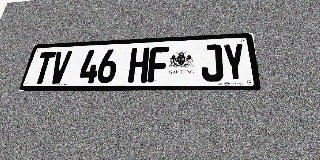4: (78, 50, 102, 83)
6: (96, 49, 119, 83)
F: (147, 46, 169, 82)
H: (127, 47, 150, 83)
J: (201, 44, 224, 82)
T: (31, 52, 56, 84)
V: (48, 51, 72, 84)
Y: (222, 43, 247, 81)
